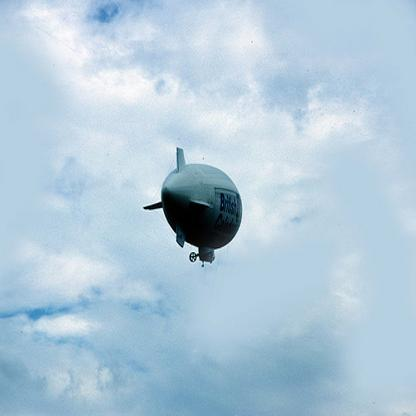Airship: (146, 144, 249, 274)
